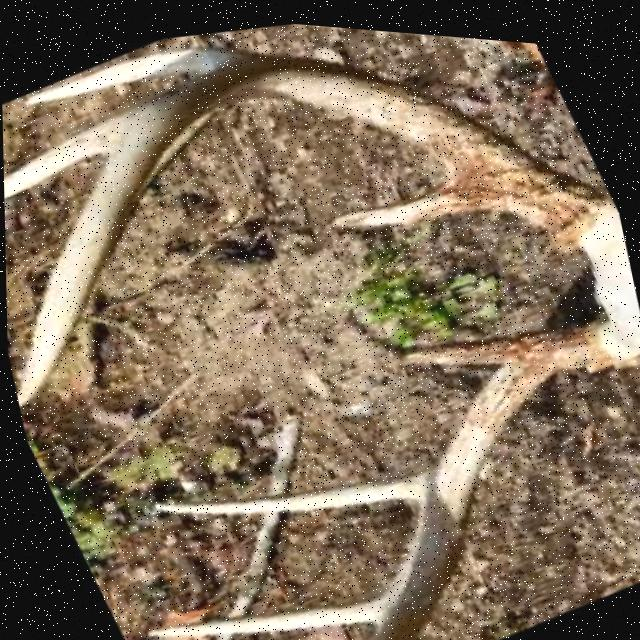L-F: (15, 49, 607, 406)
L-G1: (326, 170, 479, 221)
L-G3: (3, 103, 133, 199)
R-F: (364, 311, 625, 640)
R-G1: (398, 323, 542, 358)
R-G2: (149, 461, 432, 511)
R-G3: (142, 589, 382, 635)
